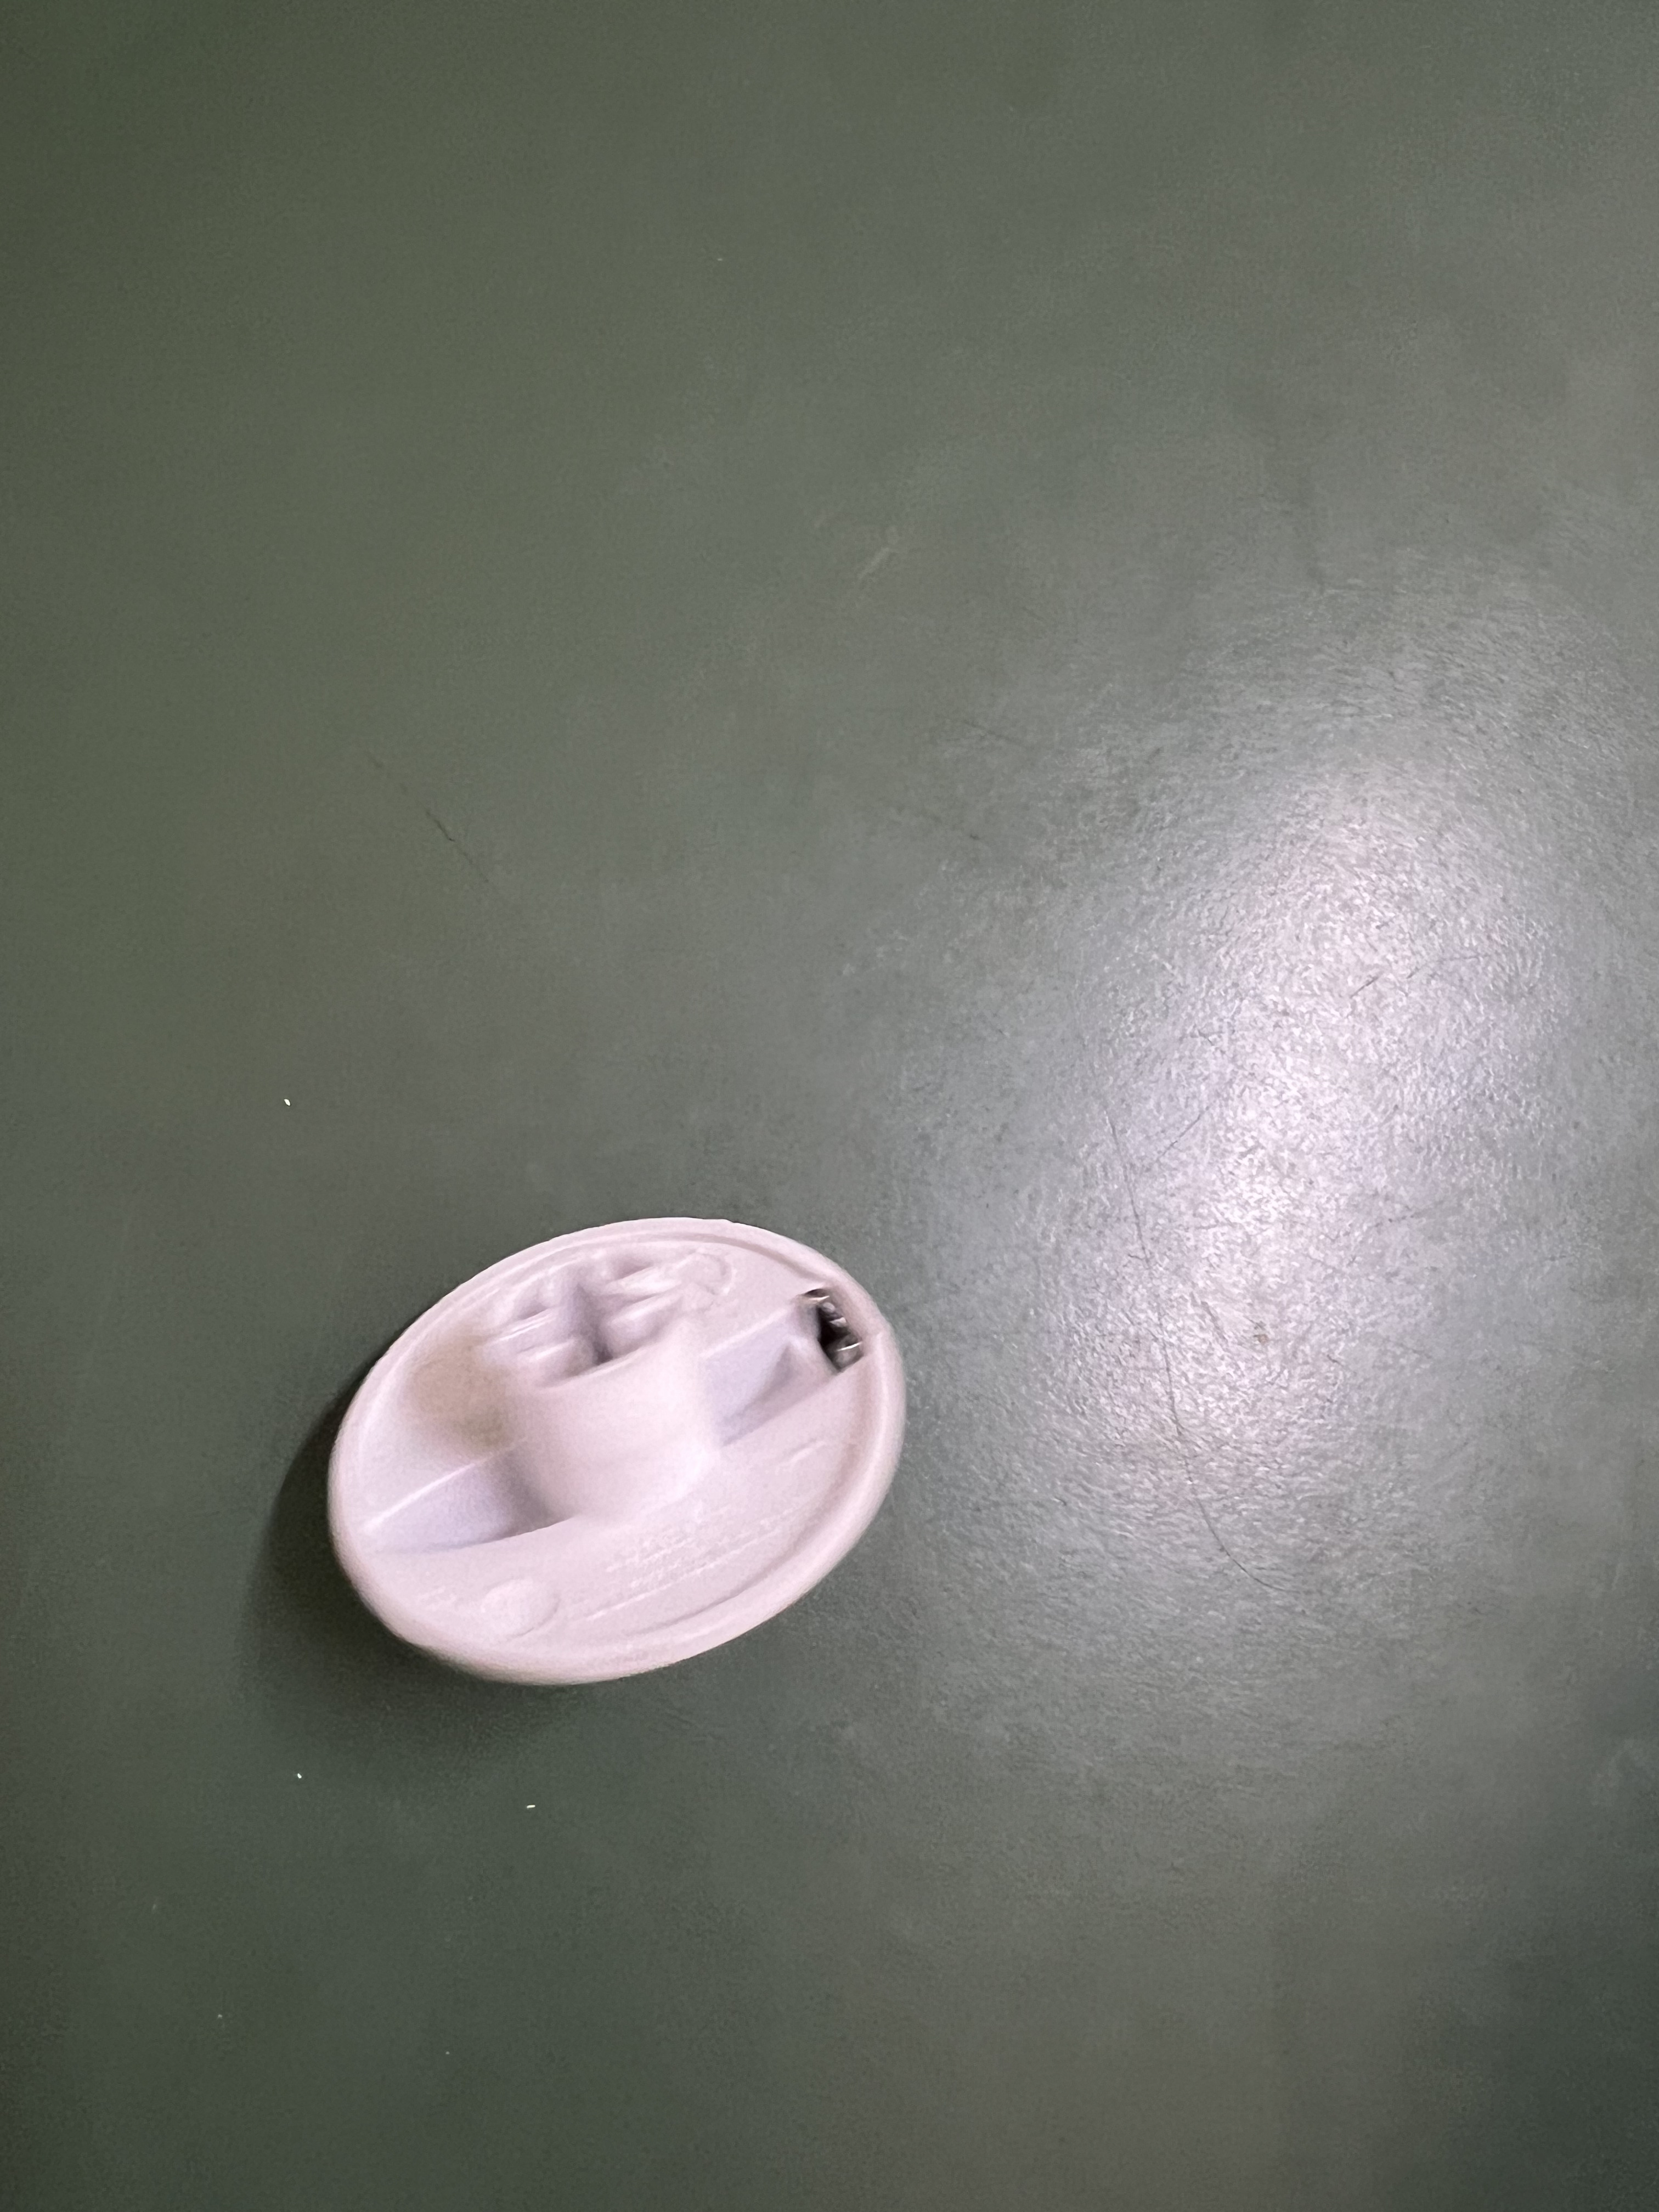regulator: (293, 1204, 927, 1688)
